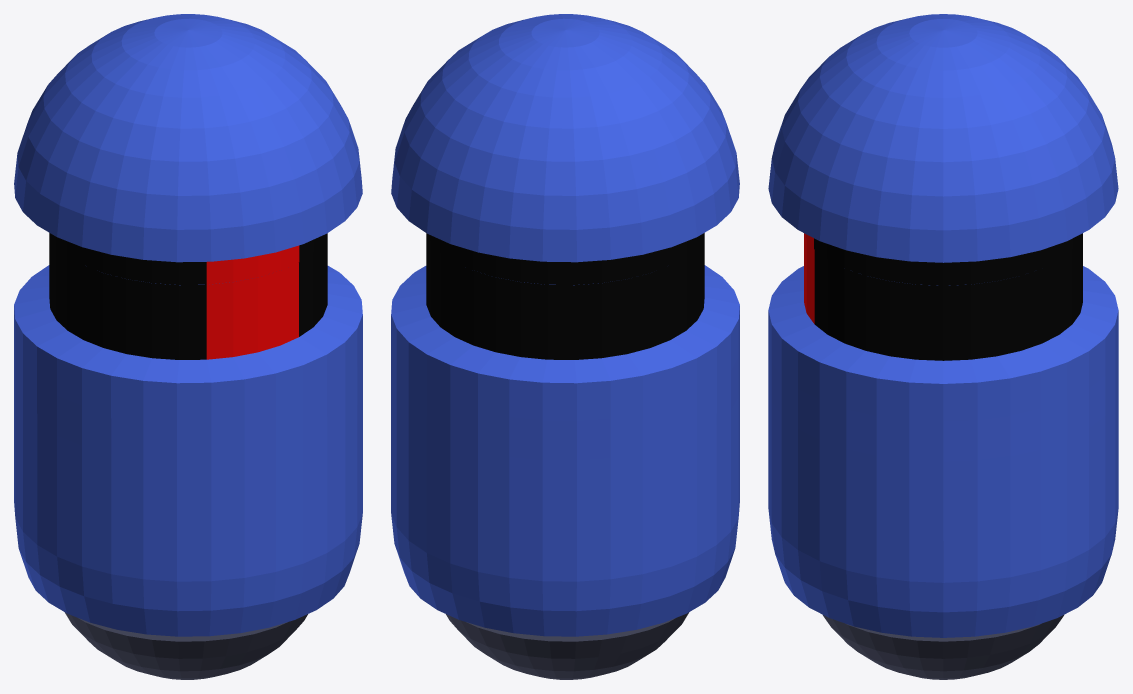
Rendered from MobileGunner.glb.
3 renders of one model, left to right at view 1: azimuth 30°, elevation 25°; view 2: azimuth 150°, elevation 25°; view 3: azimuth 270°, elevation 25°, orthographic.
Parts seen in each view (by area): view 1: GunnerT1; view 2: GunnerT1; view 3: GunnerT1.
Part boxes in pixels (x1,y1,x2,y2): GunnerT1: [14, 14, 362, 679]; GunnerT1: [391, 14, 739, 679]; GunnerT1: [768, 14, 1118, 679].
Size of the model in its own units: 1 by 2.01 by 1.
